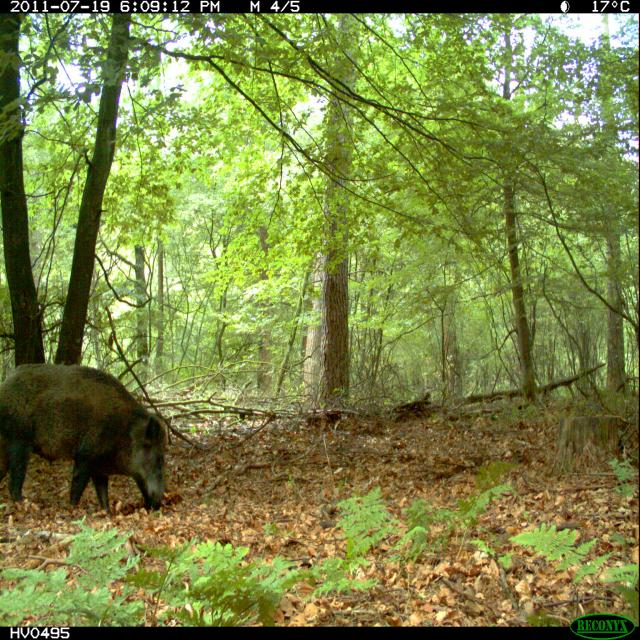boar: (0, 338, 198, 524)
